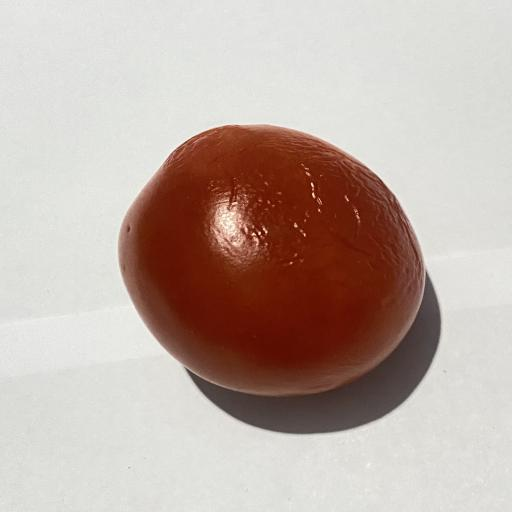spoiled: (119, 125, 425, 396)
